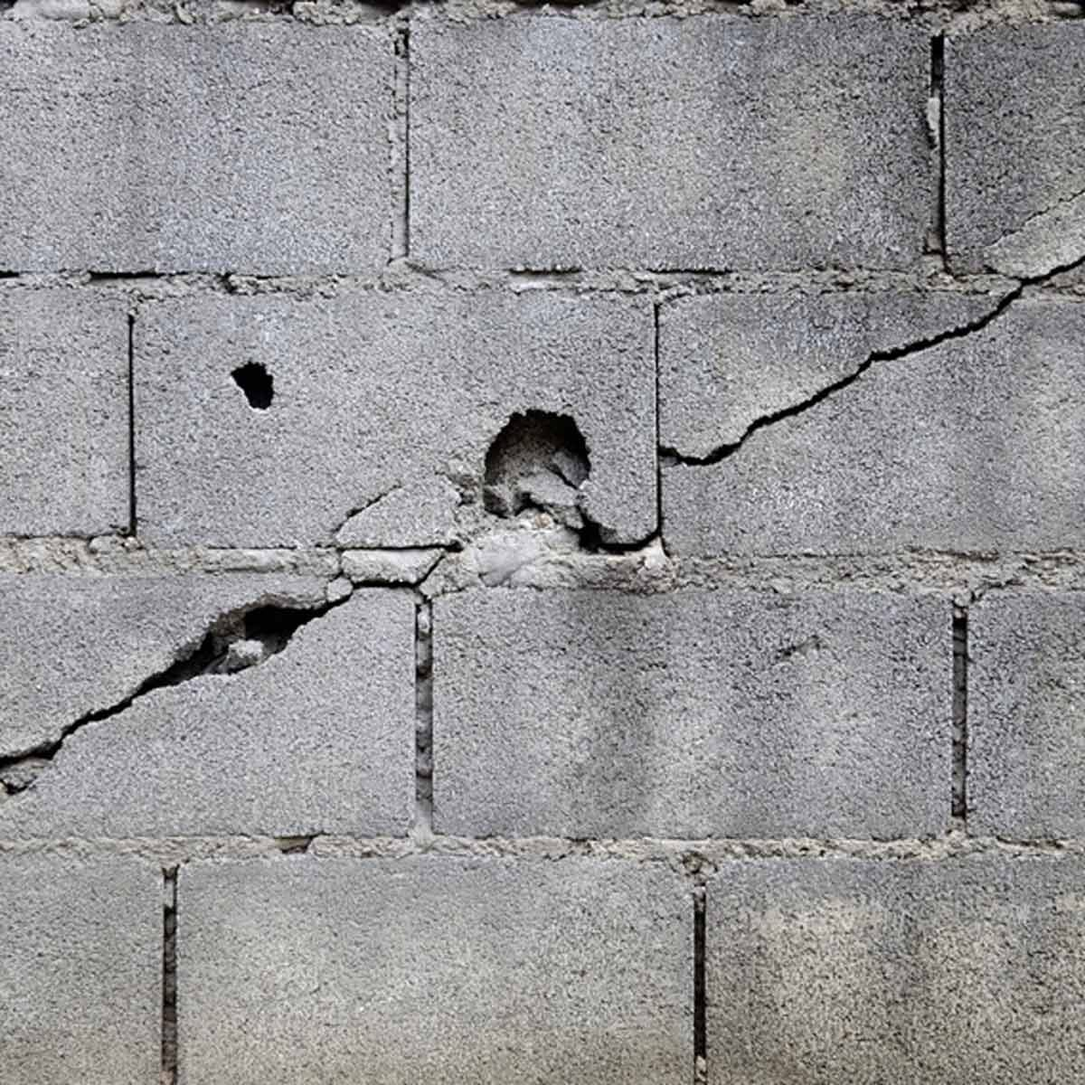crack: (0, 386, 657, 792), (656, 251, 1079, 473)
